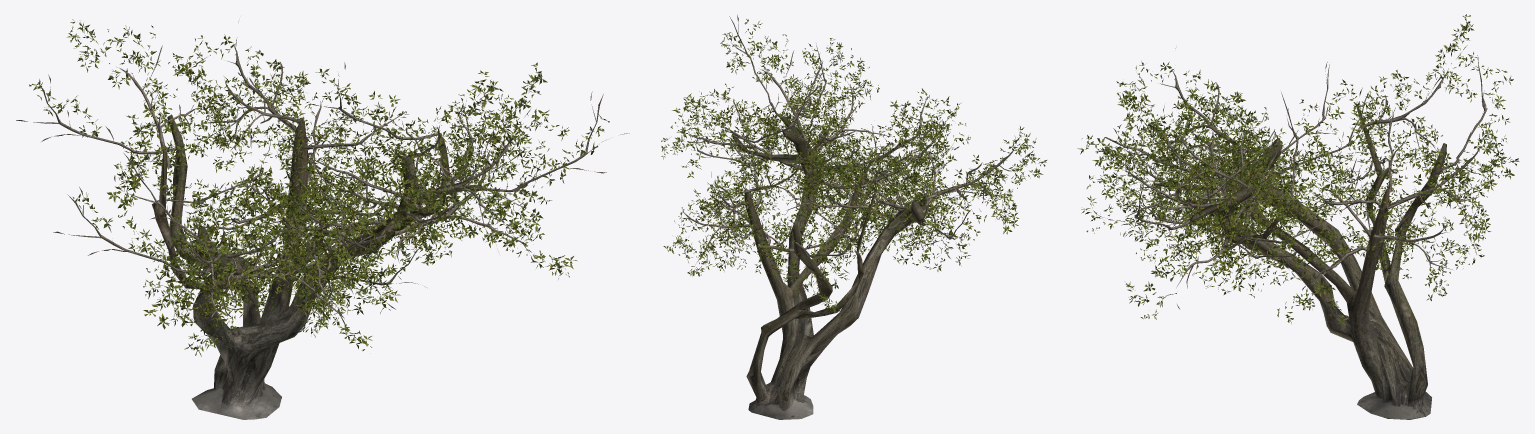
The model's file is island.glb.
3 views of the same model, side by side, from view 1: azimuth 30°, elevation 25°; view 2: azimuth 150°, elevation 25°; view 3: azimuth 270°, elevation 25° (orthographic). The views are drawn at different scales.
Visible parts, largest first — view 1: island_tree_02_LOD0; view 2: island_tree_02_LOD0; view 3: island_tree_02_LOD0.
Boxes of the visible parts, box(x1,y1,x2,y2) form: island_tree_02_LOD0: box(16, 19, 629, 419); island_tree_02_LOD0: box(661, 14, 1046, 419); island_tree_02_LOD0: box(1077, 14, 1519, 419).
Bounding box in the file's own units: 4.21 × 3.4 × 4.07.
3 materials, 3 textured.
